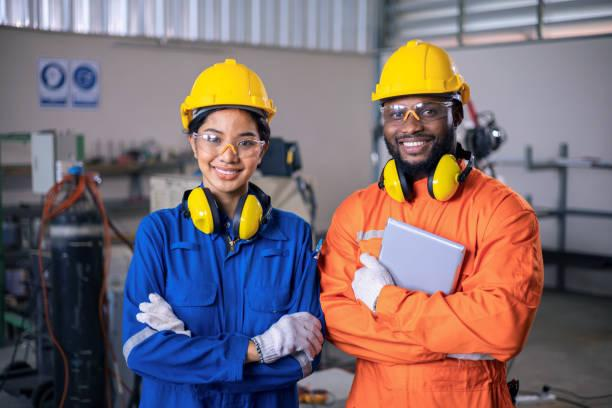capacete: (171, 55, 285, 126), (365, 39, 476, 104)
fone de seguranca: (377, 153, 478, 199), (187, 186, 269, 240)
luva: (246, 310, 324, 364), (344, 250, 400, 316), (136, 293, 192, 344)
oculos de protecao: (371, 101, 470, 122), (193, 132, 272, 158)
pessoa: (321, 34, 549, 408), (128, 55, 321, 408)
